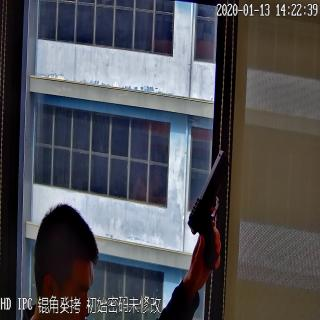gun: (188, 150, 230, 266)
